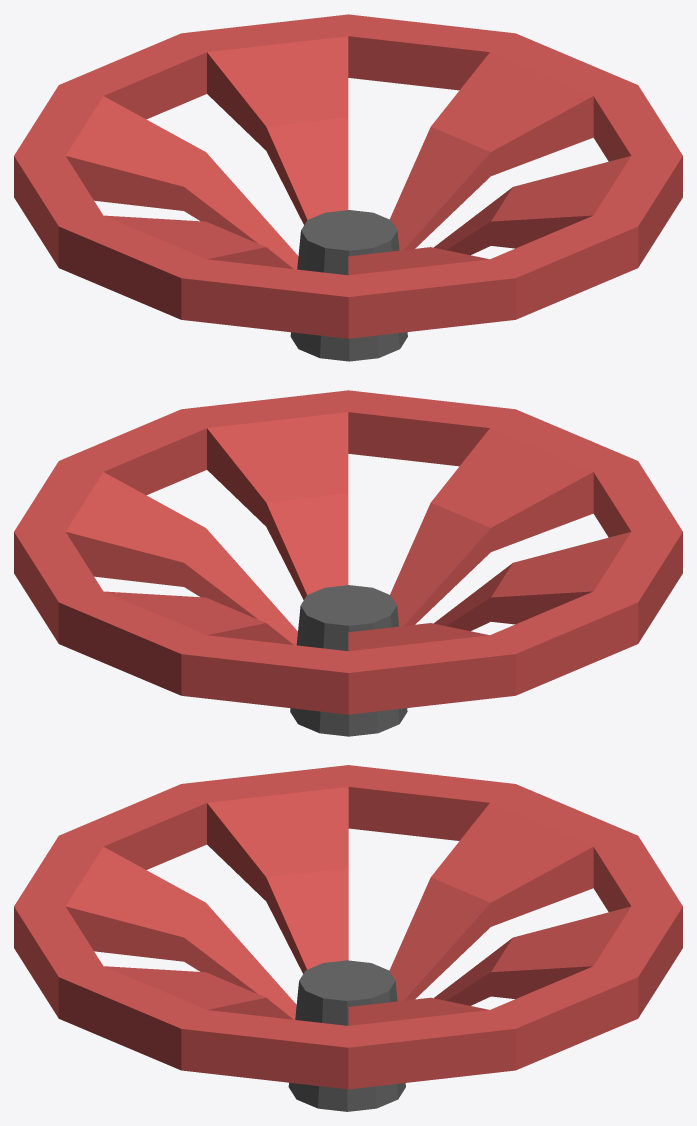
The model's file is Wh_Valve.fbx.
3 renders of one model, top to bottom at view 1: azimuth 30°, elevation 25°; view 2: azimuth 150°, elevation 25°; view 3: azimuth 270°, elevation 25°, orthographic.
Parts seen in each view (by area): view 1: Cylinder.025; view 2: Cylinder.025; view 3: Cylinder.025.
Boxes of the visible parts, bbox=[...] form: Cylinder.025: bbox=[14, 14, 682, 361]; Cylinder.025: bbox=[14, 390, 682, 736]; Cylinder.025: bbox=[14, 765, 682, 1111].
Size of the model in its own units: 53.41 by 15.91 by 53.41.
